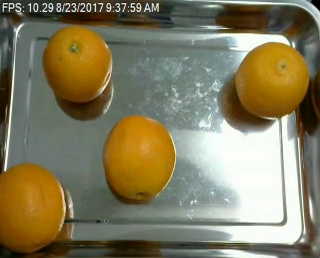Orange: (104, 115, 176, 200), (234, 41, 310, 120), (2, 163, 67, 253), (43, 24, 113, 102)
